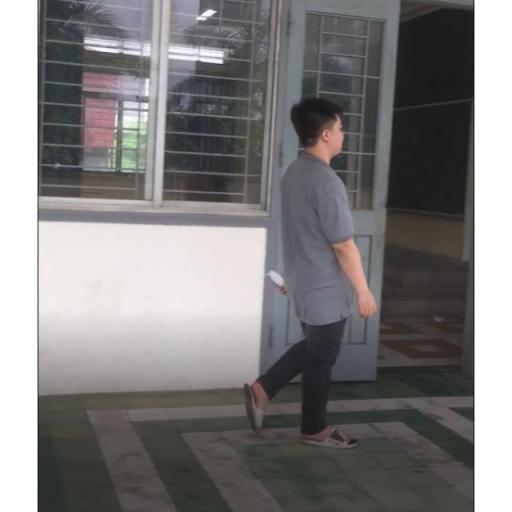Running: (239, 94, 384, 452)
